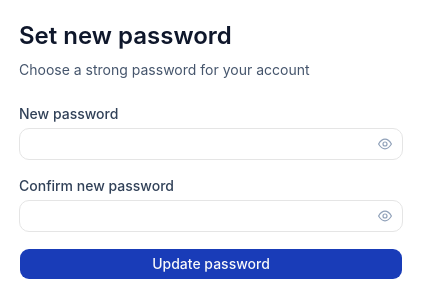
Test case: ResetPasswordPage › показывает ошибку Zod если пароли не совпадают
Type "NewPass1!" into the password field labelled "New password" at (211, 144), box [19, 128, 403, 160]
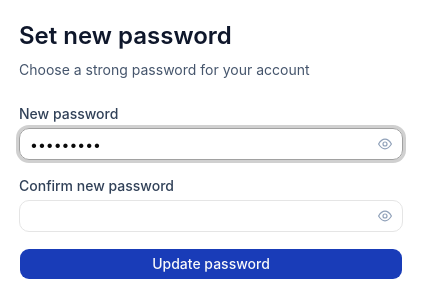
Type "DifferentPass2@" into the password field labelled "Confirm new password" at (211, 216), box [19, 200, 403, 232]
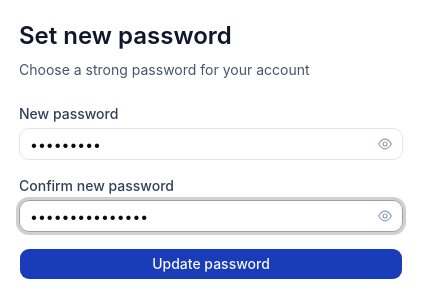
Click the button "Update password" at (211, 264), box [19, 248, 403, 280]
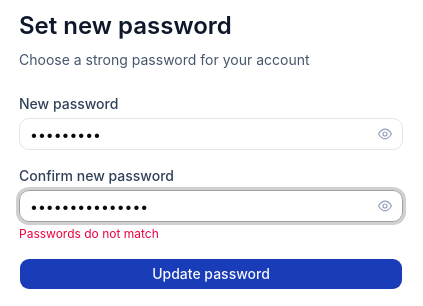
Check: the text "Passwords do not match" is shown, box [19, 226, 159, 241]
